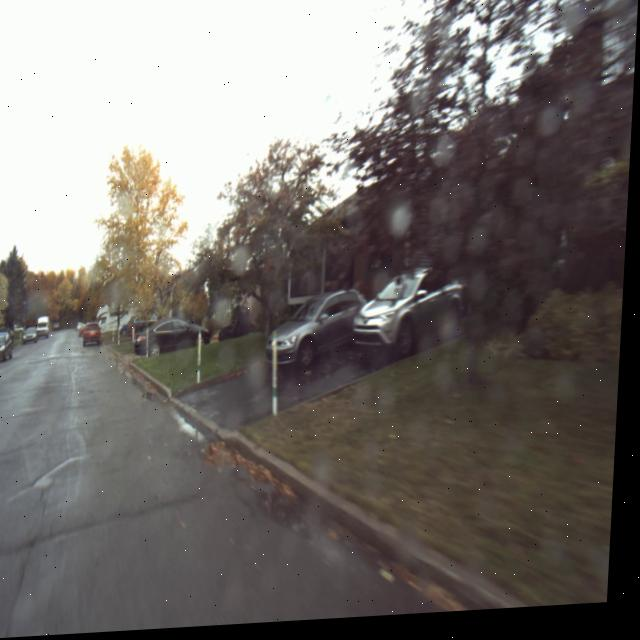car: (255, 277, 377, 380)
